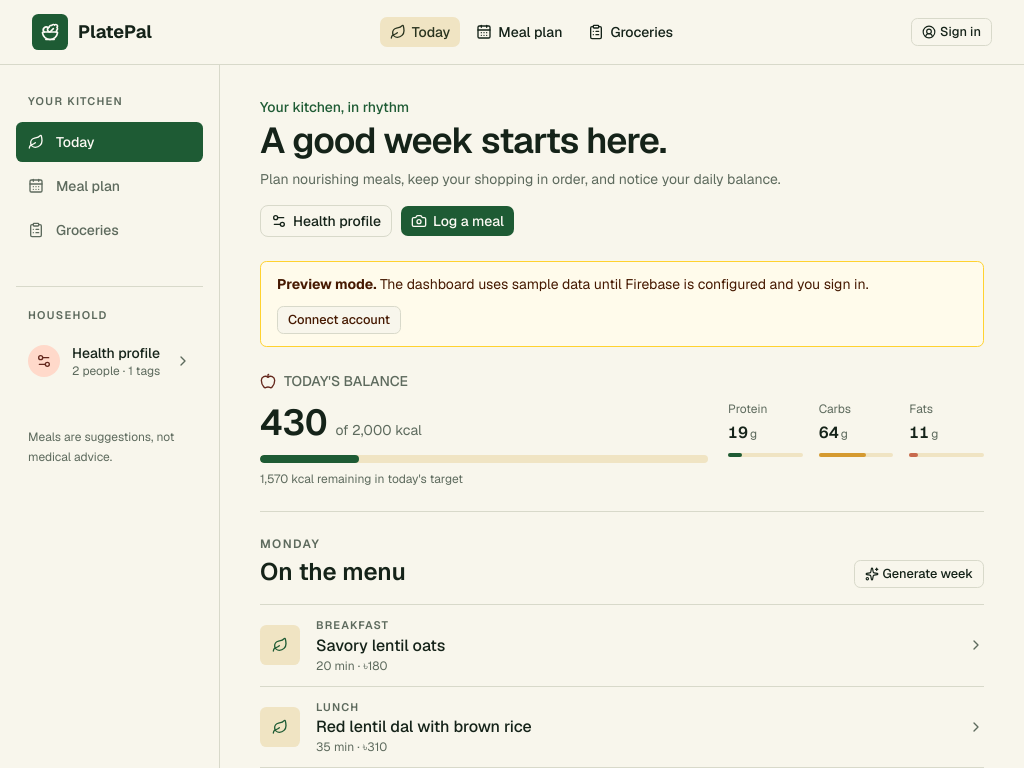
Test case: PlatePal dashboard › opens the seven-day plan and switches calendar days
Click the button "Meal plan" in the row of "PlatePal": (519, 32) [465, 16, 573, 48]
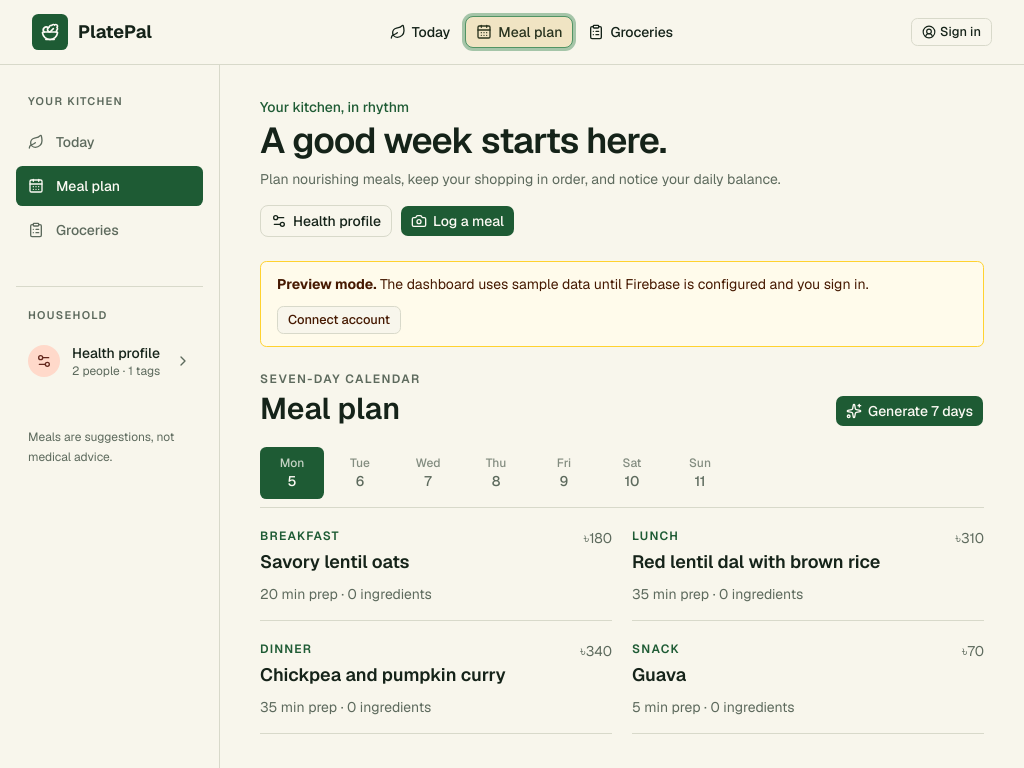
Expected: the heading "Savory lentil oats" is shown, [260, 548, 410, 576]
Now the number of tabs is 7
Click the tab "Tue 6": (360, 473) [328, 447, 392, 499]
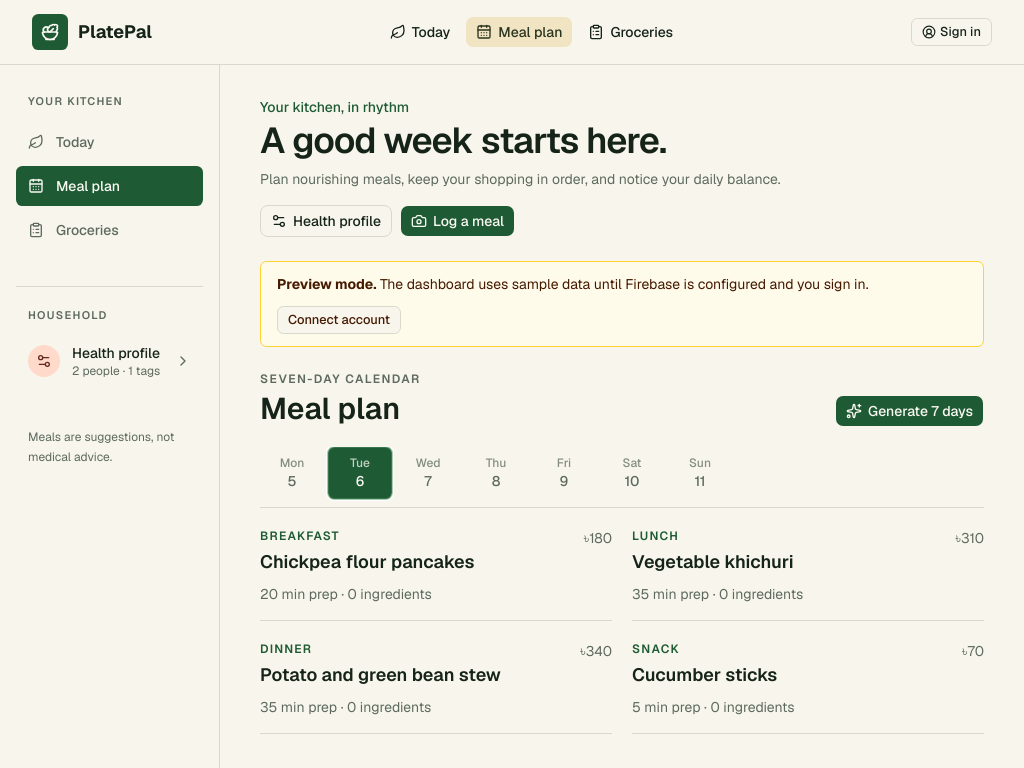
Now the heading "Chickpea flour pancakes" is shown, box [260, 548, 474, 576]
